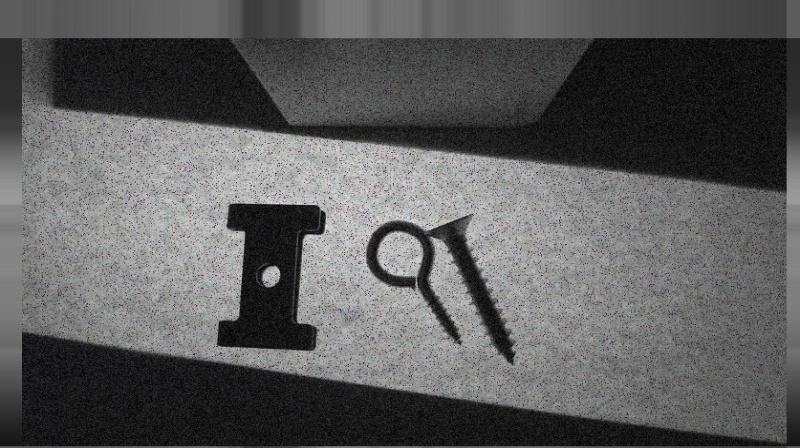O001: (365, 220, 462, 346)
O002: (212, 199, 326, 353)
S001: (426, 212, 517, 367)
